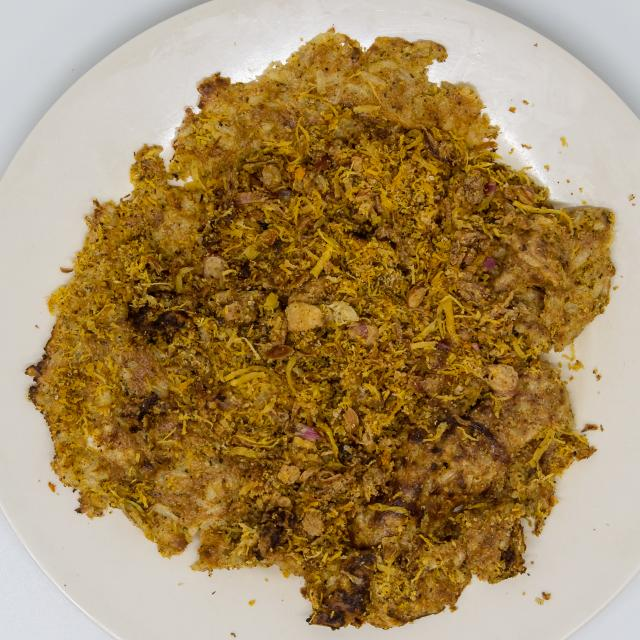Kerak-Telor: (27, 15, 621, 630)
